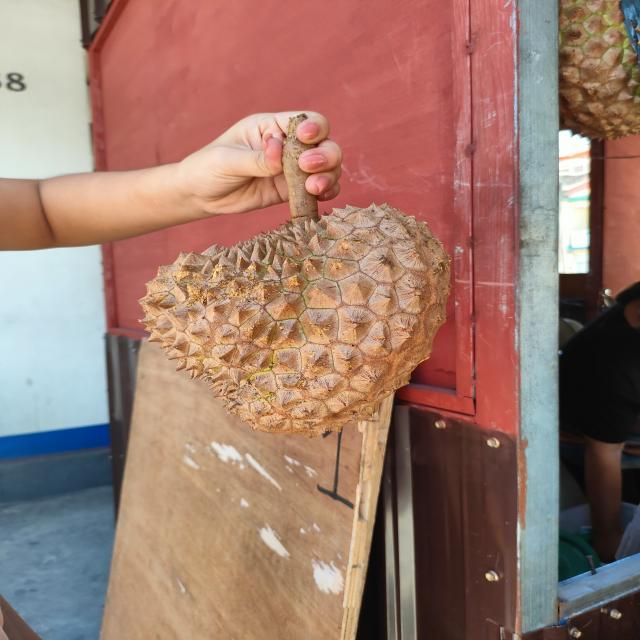mature: (138, 200, 451, 438)
